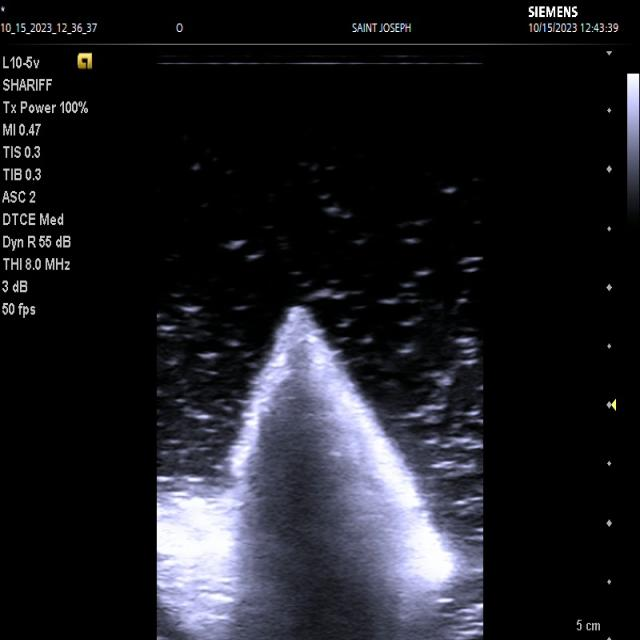tissue: (158, 306, 451, 640)
